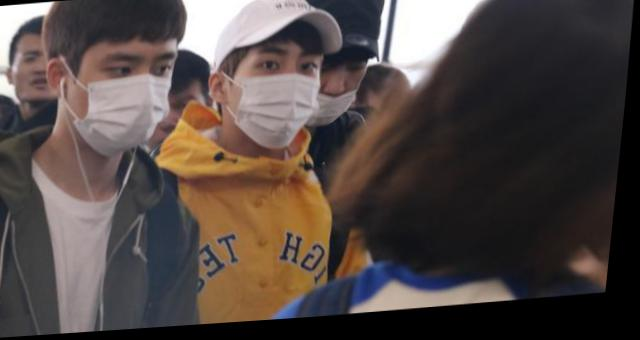NONE: (11, 35, 65, 103)
OK: (214, 40, 328, 152), (73, 47, 181, 153)
WRONG: (289, 56, 370, 135)
